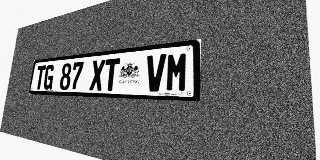7: (69, 62, 84, 90)
8: (59, 63, 73, 90)
G: (43, 64, 55, 90)
M: (165, 51, 189, 92)
T: (103, 58, 120, 91), (35, 65, 46, 89)
V: (145, 54, 166, 92)
X: (89, 59, 105, 91)
